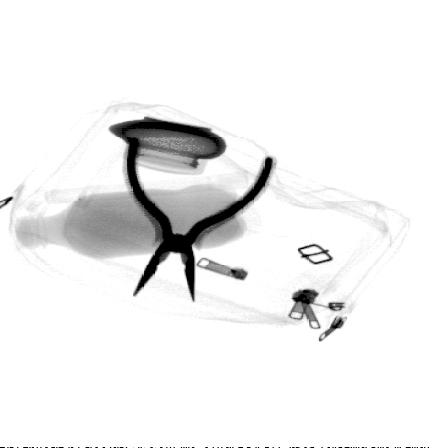Pliers: (122, 135, 276, 305)
